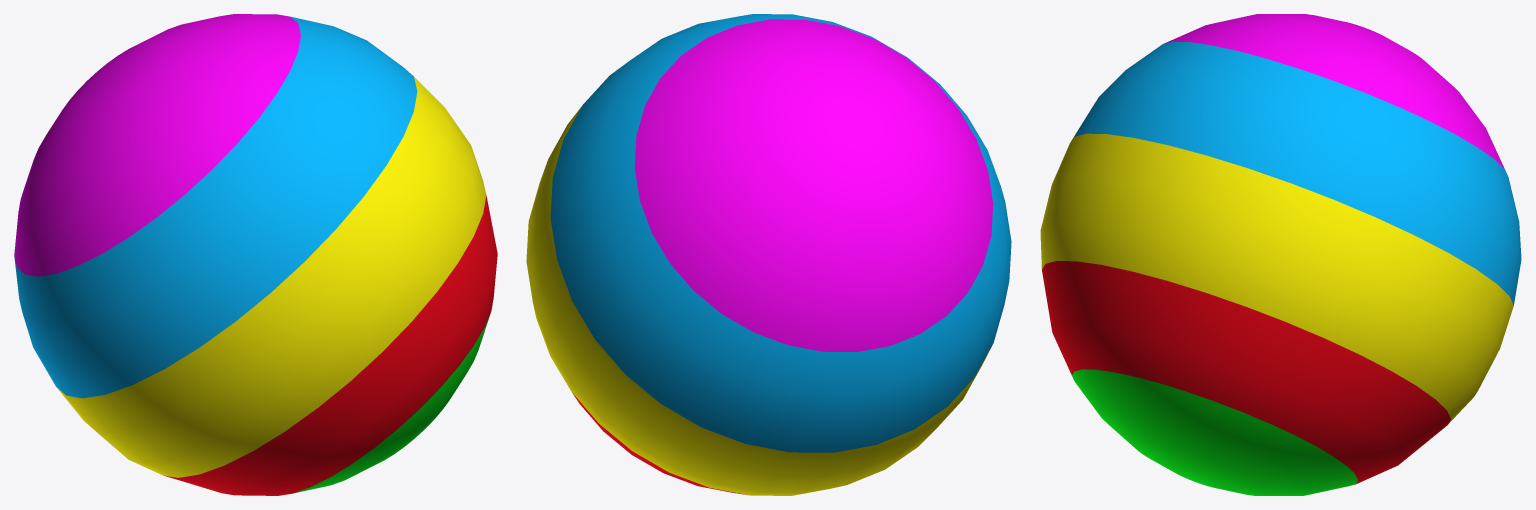
The model's file is Rainbow Ball (1).fbx.
3 views of the same model, side by side, from view 1: azimuth 30°, elevation 25°; view 2: azimuth 150°, elevation 25°; view 3: azimuth 270°, elevation 25° (orthographic).
Visible parts, largest first — view 1: Sphere; view 2: Sphere; view 3: Sphere.
Boxes of the visible parts, x1,y1,x2,y2 form: Sphere: [14, 14, 497, 495]; Sphere: [526, 14, 1011, 495]; Sphere: [1040, 14, 1521, 495].
Bounding box in the file's own units: 2.93 × 2.95 × 2.94.
